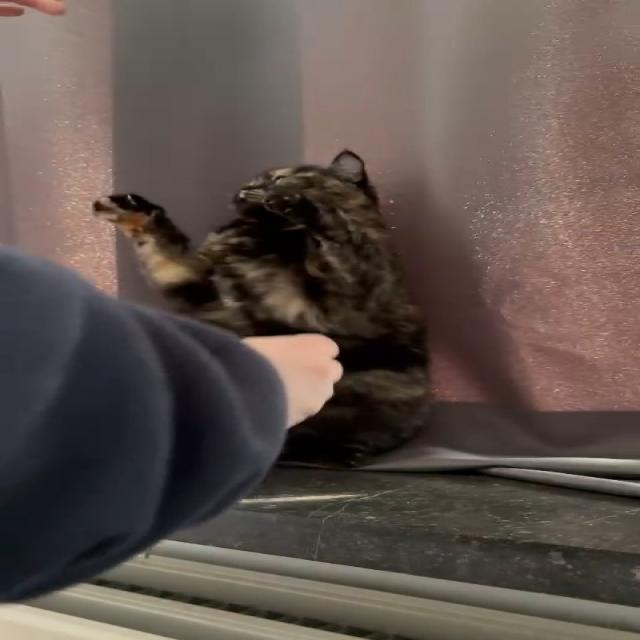authorized: (91, 148, 433, 469)
